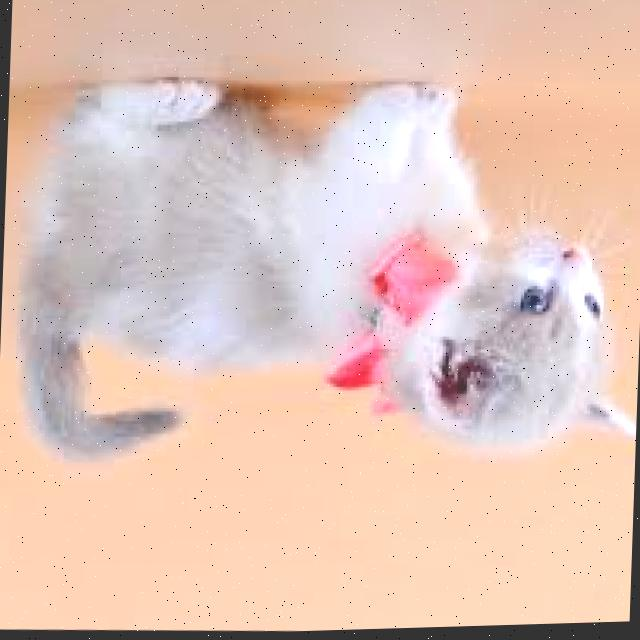Munchkin: (3, 60, 640, 495)
